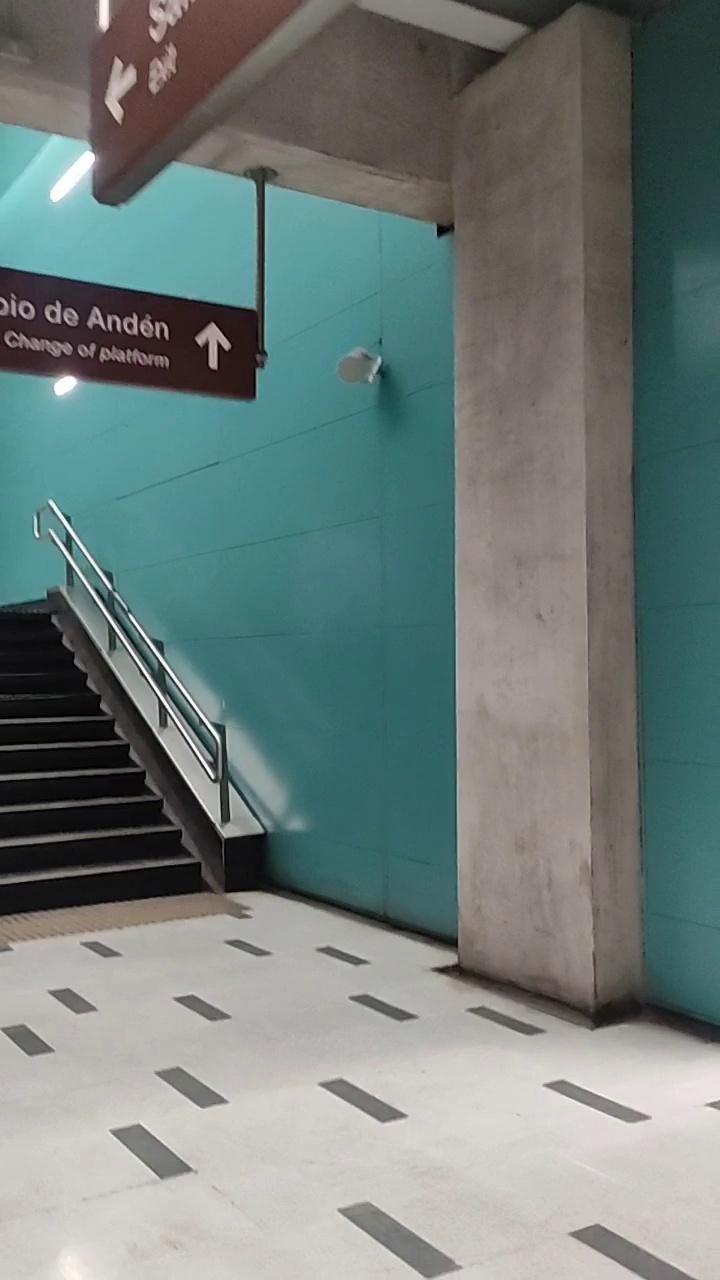right arrow: (94, 57, 162, 130)
up arrow: (189, 313, 239, 385)
